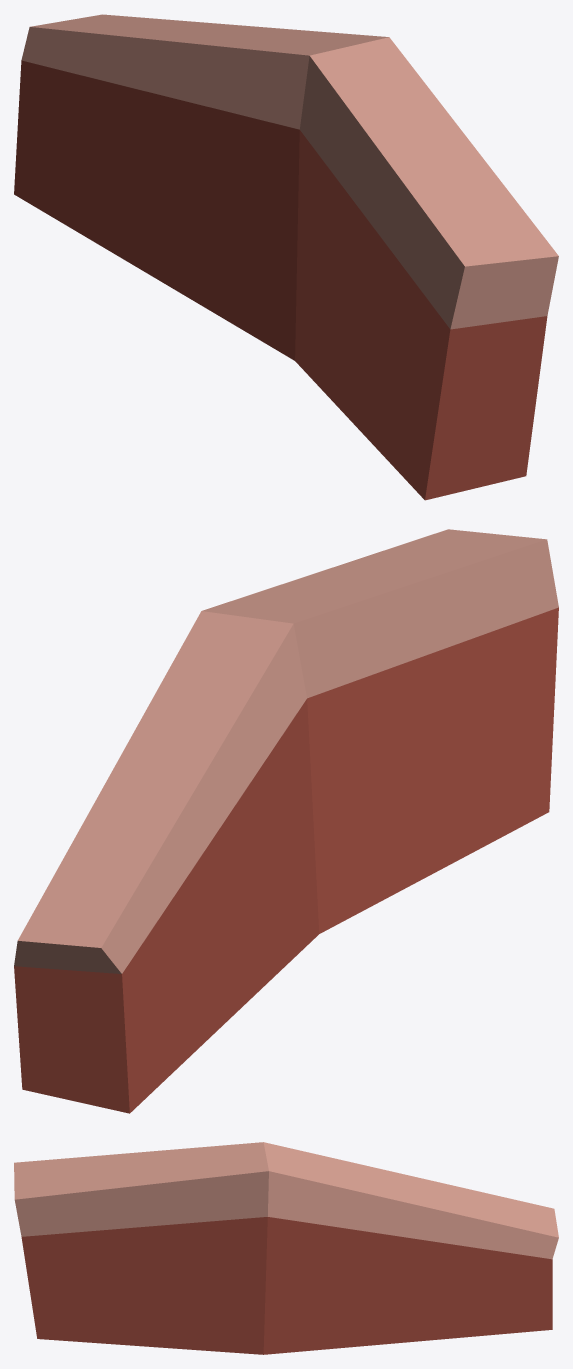
File: picanhaCut01.fbx
3 renders of one model, top to bottom at view 1: azimuth 30°, elevation 25°; view 2: azimuth 150°, elevation 25°; view 3: azimuth 270°, elevation 25°, orthographic. The views are drawn at different scales.
Visible parts, largest first — view 1: picanhaCut01; view 2: picanhaCut01; view 3: picanhaCut01.
Part boxes in pixels (box(x1,y1,x2,y2)): picanhaCut01: box(14, 14, 558, 500); picanhaCut01: box(14, 529, 558, 1113); picanhaCut01: box(14, 1142, 558, 1354).
Size of the model in its own units: 6.67 by 11.56 by 30.71.
Materials: 1 (1 with a texture image).
